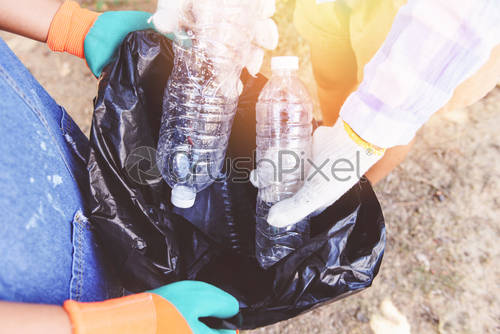plastic_bottle: (236, 32, 354, 288), (116, 15, 243, 248)
